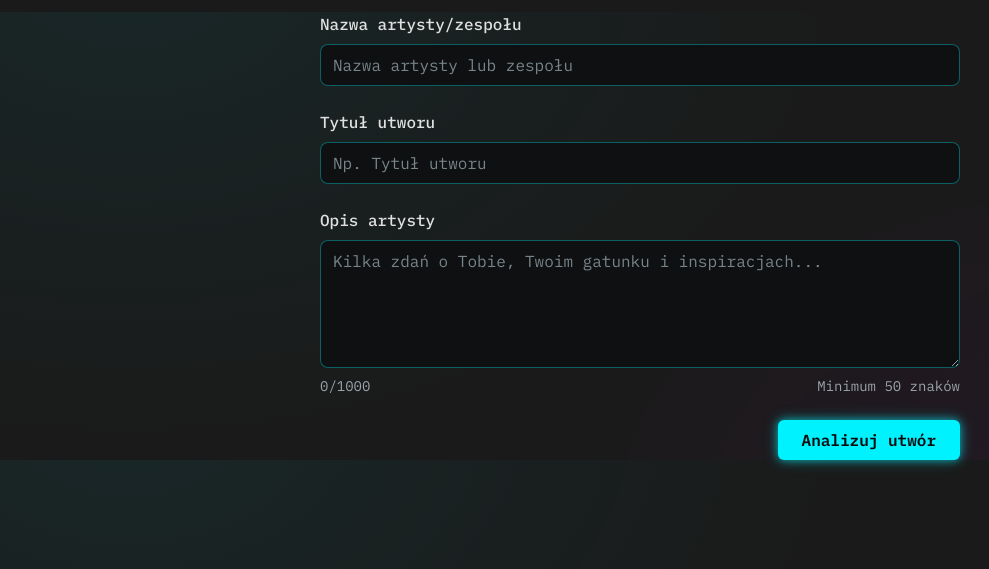
Test: ArtistForm – additional high-priority cases › shows only description error and does not submit (TC1.2)
Type "Valid Artist Name" into the field labelled "Nazwa artysty/zespołu".
click(640, 65); type("Valid Artist Name")  # box 320,44 -> 960,86
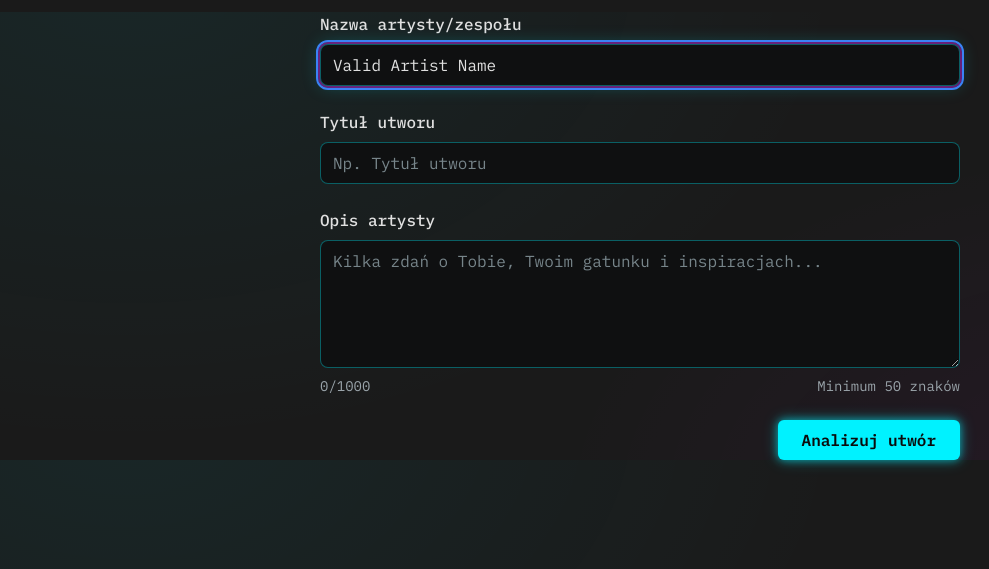
Type "Valid Song Title" into the field labelled "Tytuł utworu".
click(640, 163); type("Valid Song Title")  # box 320,142 -> 960,184
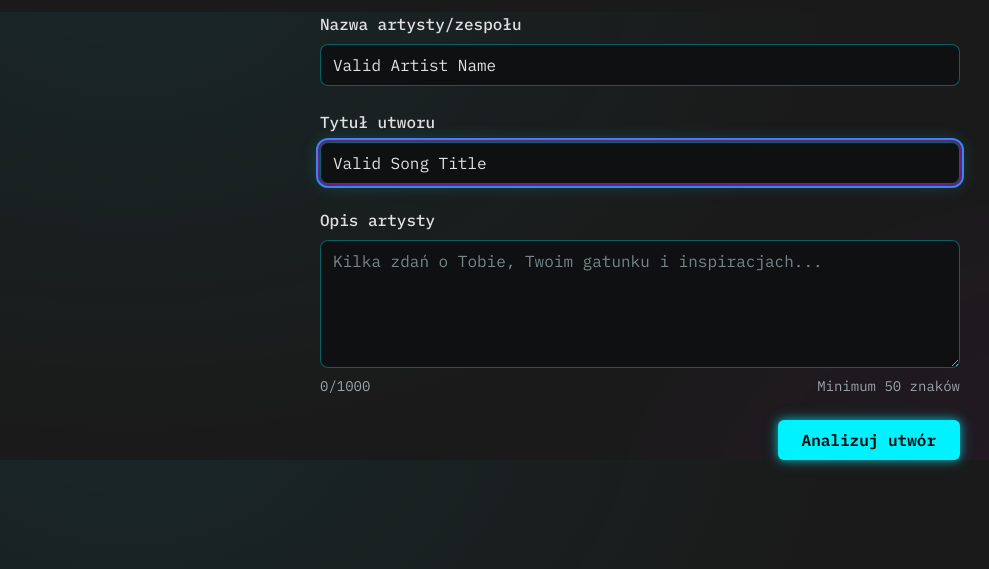
Click the button "Analizuj utwór".
click(869, 440)  # box 778,420 -> 960,460
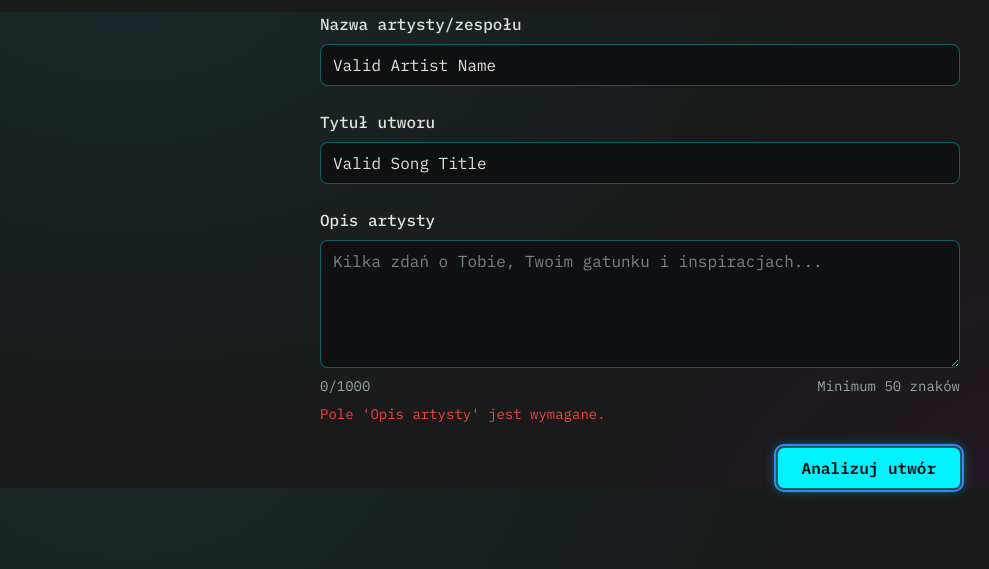
Result: the text "Pole 'Opis artysty' jest wymagane." is shown at 320,405 -> 606,423
